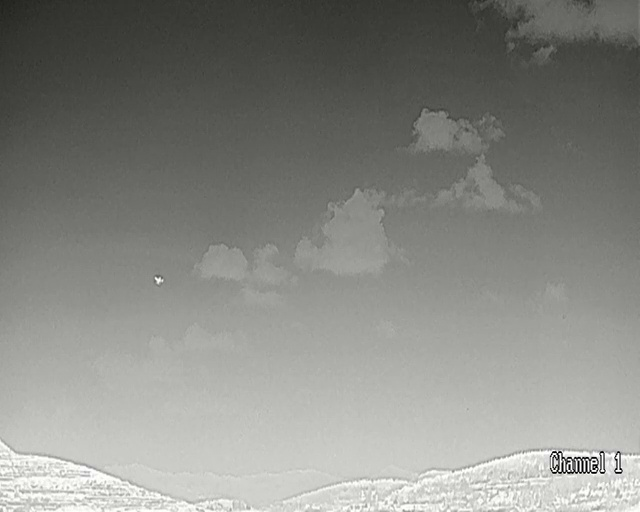uav: (154, 276, 163, 284)
